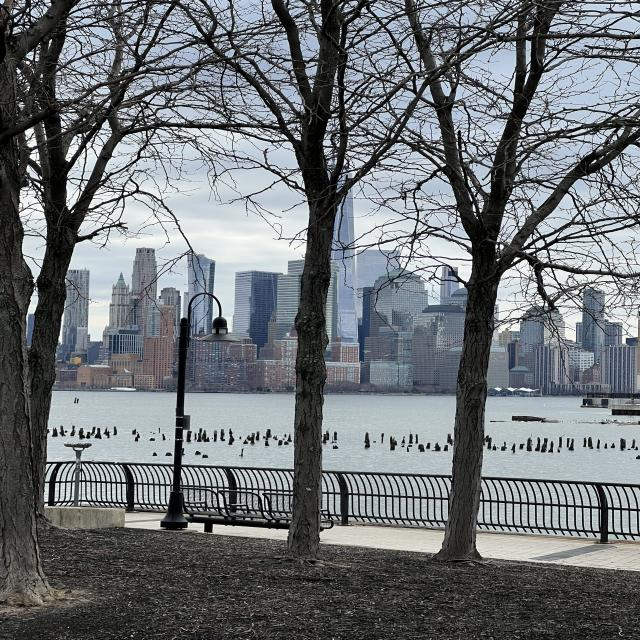WTC: (331, 196, 357, 318)
